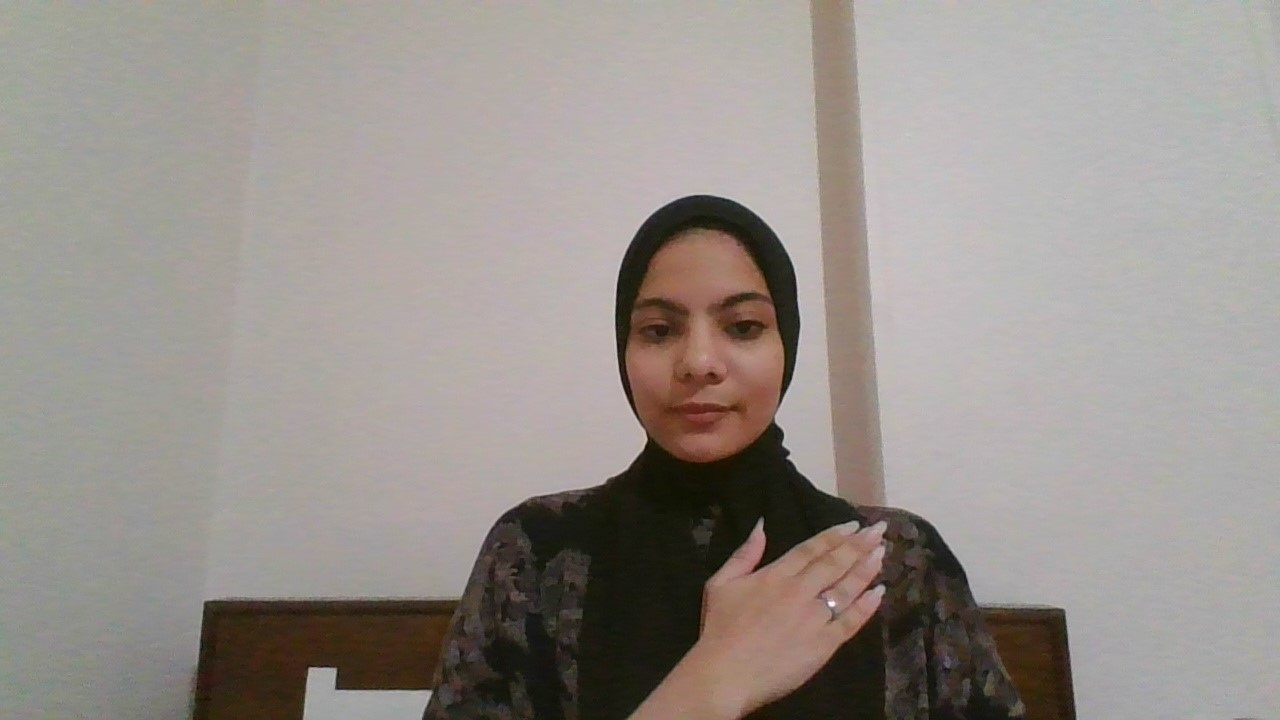please: (701, 513, 892, 698)
